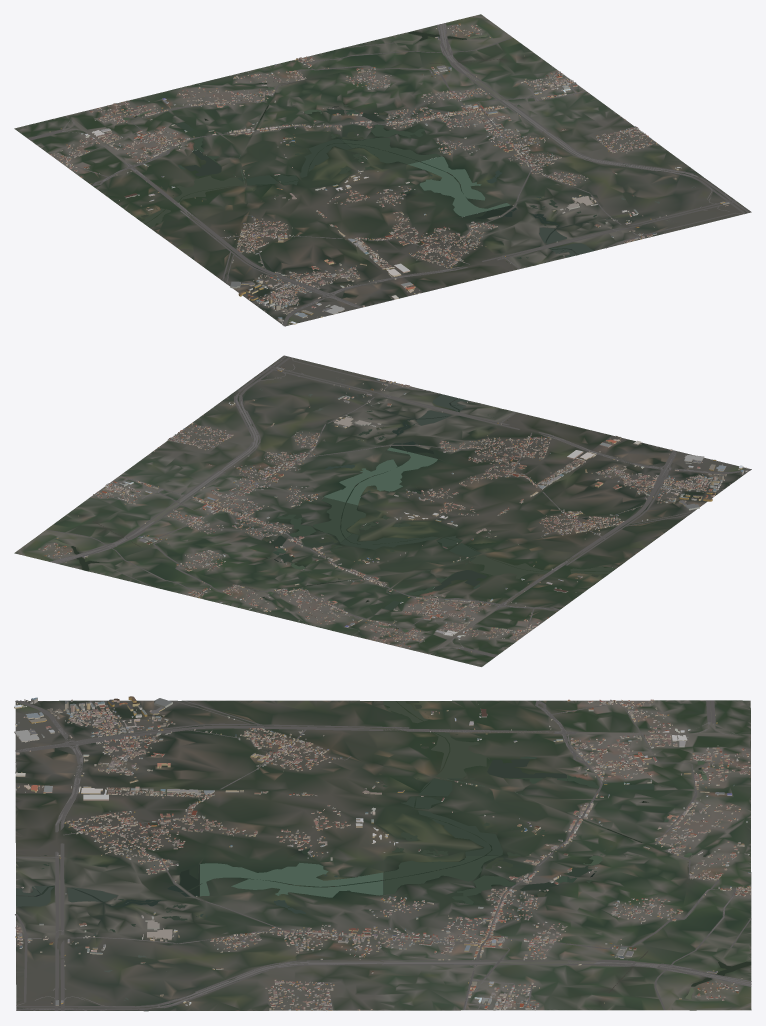
The picture shows the model from 3 angles, top to bottom: view 1: azimuth 30°, elevation 25°; view 2: azimuth 150°, elevation 25°; view 3: azimuth 270°, elevation 25°; orthographic projection. The views are drawn at different scales.
Visible parts, largest first — view 1: ground, buildings, water, roads; view 2: ground, buildings, water, roads; view 3: ground, buildings, water, roads.
Part boxes in pixels (x1,y1,x2,y2): ground: [14, 14, 751, 325]; buildings: [49, 23, 729, 324]; water: [122, 31, 703, 262]; roads: [28, 23, 750, 326]; ground: [14, 355, 749, 666]; buildings: [38, 367, 747, 652]; water: [52, 377, 623, 636]; roads: [46, 355, 751, 657]; ground: [15, 700, 751, 1011]; buildings: [14, 696, 751, 1010]; water: [16, 701, 751, 1011]; roads: [15, 700, 751, 1010].
Bounding box in the file's own units: 5641 × 60.6 × 5628.
